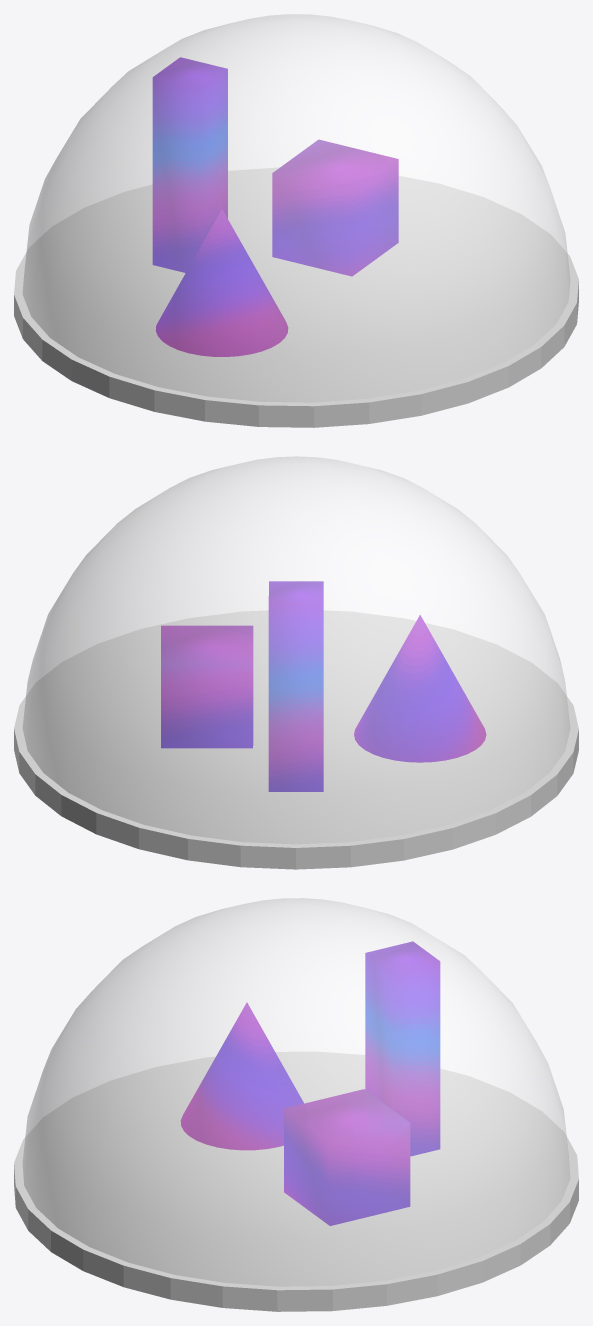
File: example1.gltf
The picture shows the model from 3 angles, top to bottom: view 1: azimuth 30°, elevation 25°; view 2: azimuth 150°, elevation 25°; view 3: azimuth 270°, elevation 25°; orthographic projection.
Parts seen in each view (by area): view 1: Sphere, Cylinder, Cube; view 2: Sphere, Cylinder, Cube; view 3: Sphere, Cylinder, Cube.
Part boxes in pixels (x1,y1,x2,y2): Sphere: [22, 14, 570, 402]; Cylinder: [14, 167, 578, 427]; Cube: [152, 57, 398, 356]; Sphere: [22, 456, 570, 844]; Cylinder: [14, 610, 578, 869]; Cube: [161, 581, 486, 791]; Sphere: [22, 898, 570, 1286]; Cylinder: [14, 1051, 578, 1311]; Cube: [180, 941, 440, 1225].
Size of what is drawn, in the model's own units: 20.68 by 10.86 by 20.68.
Materials: 2 (1 with a texture image).
